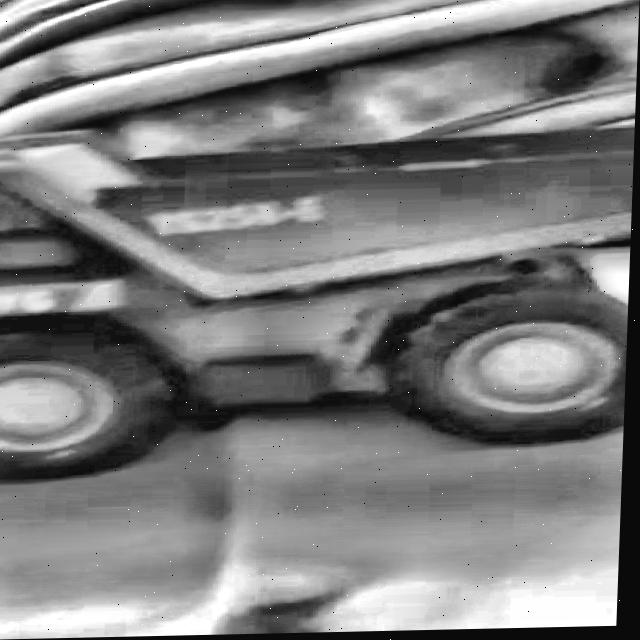dump_truck: (0, 117, 636, 472)
